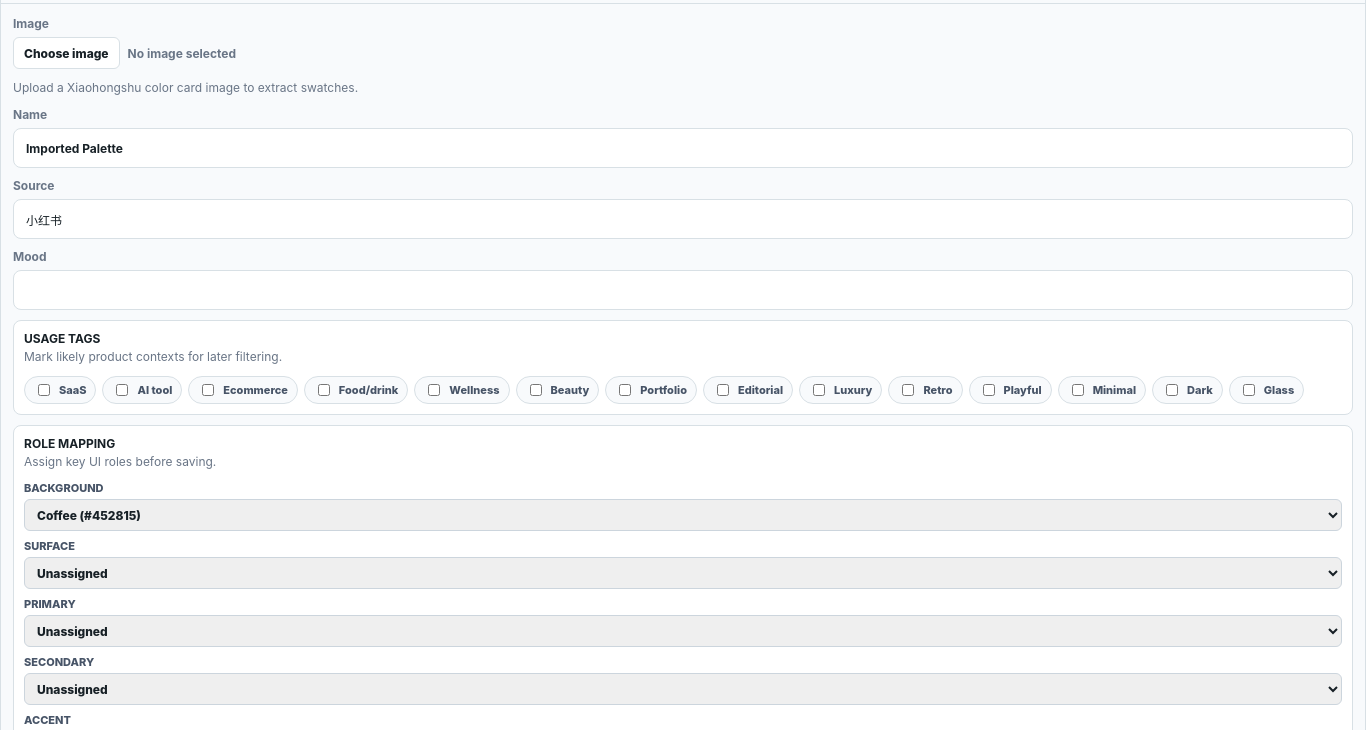
PaletteExtractor › saves adjusted markdown into the local palette library
Step 1. Replace the text in the field named "Palette name" with "Coffee Foam" → point(683, 148), box x1=13 y1=128 x2=1353 y2=168
(page scrolled)
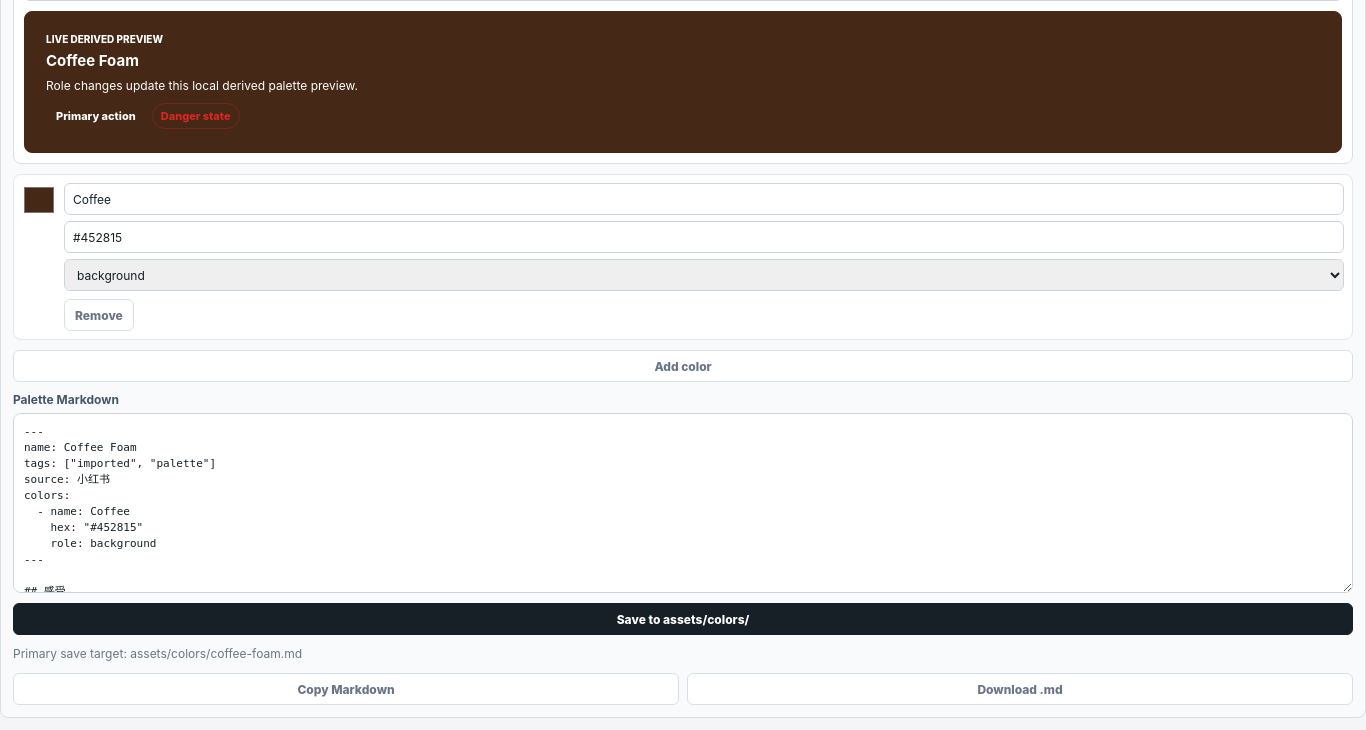
Step 2. Click the button "Save to assets/colors/" → point(683, 619), box x1=13 y1=603 x2=1353 y2=635
(page scrolled)
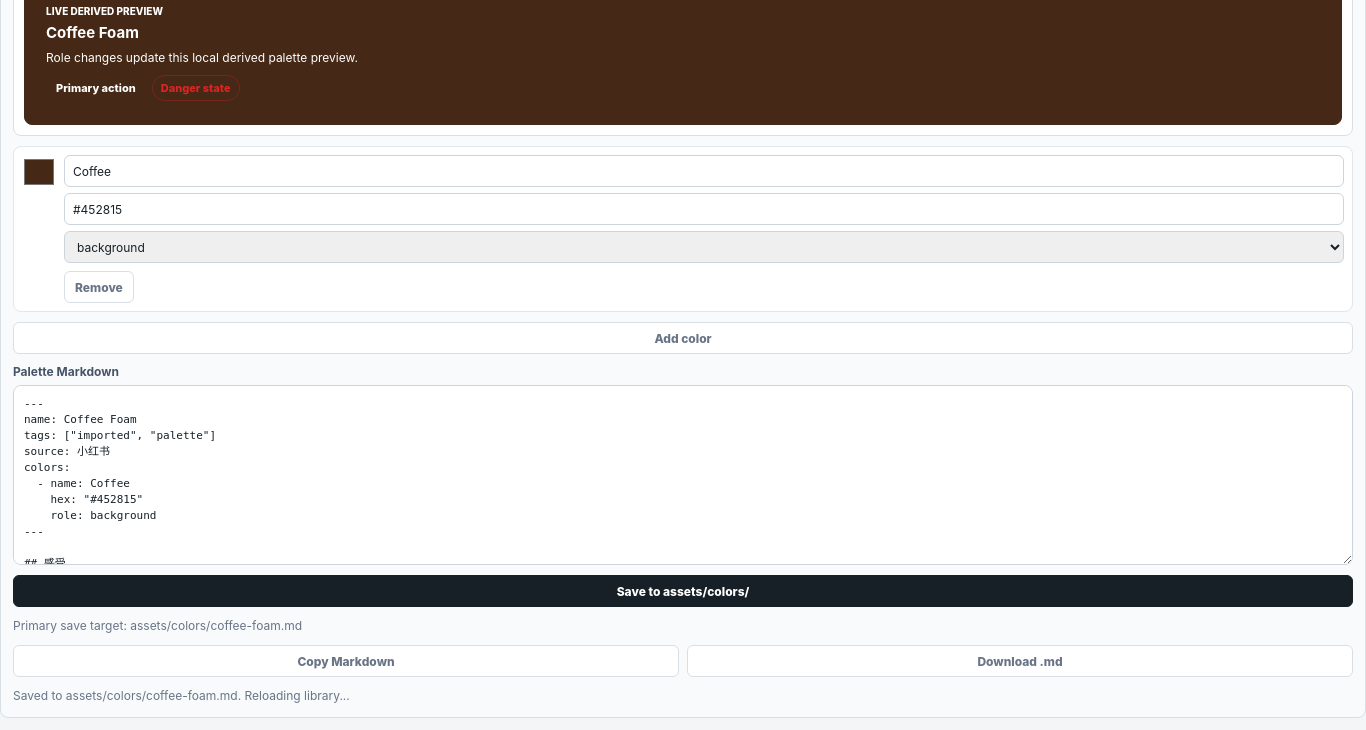
Expected: the text "Saved to assets/colors/coffee-foam.md. Reloading library..." is shown, x1=13 y1=688 x2=350 y2=703
